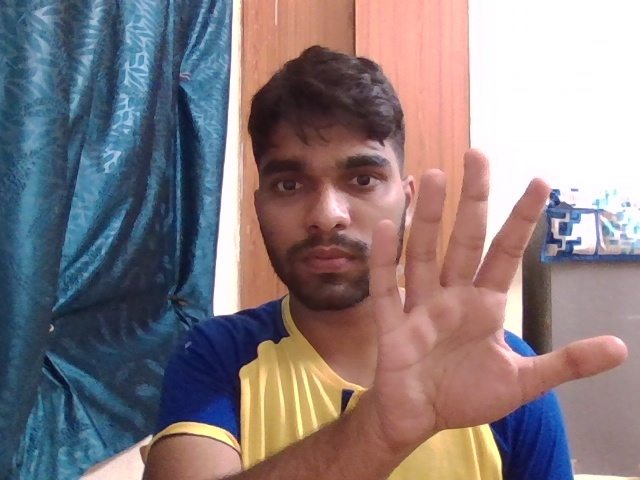Hello: (352, 145, 636, 438)
